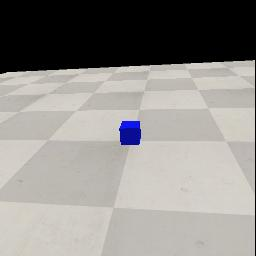box: (119, 121, 141, 145)
